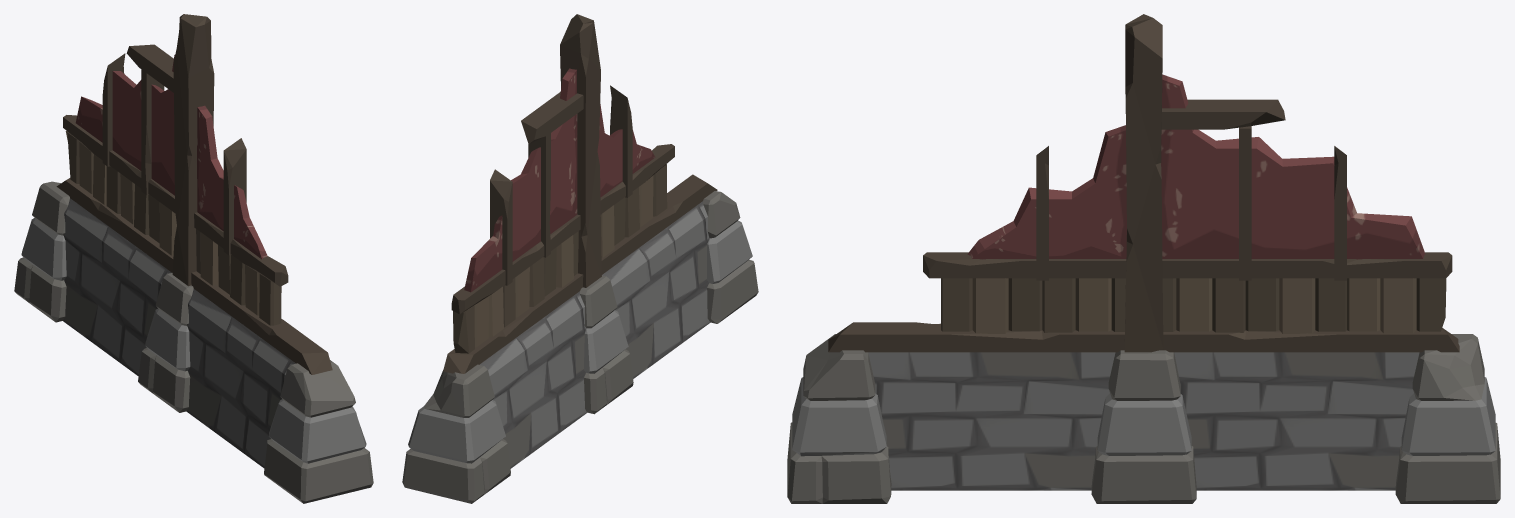
File: SM_Prop_Destroyed_House_Piece_06.fbx
3 renders of one model, left to right at view 1: azimuth 30°, elevation 25°; view 2: azimuth 150°, elevation 25°; view 3: azimuth 270°, elevation 25°, orthographic. The views are drawn at different scales.
Visible parts, largest first — view 1: SM_Prop_Destroyed_House_Piece_06; view 2: SM_Prop_Destroyed_House_Piece_06; view 3: SM_Prop_Destroyed_House_Piece_06.
Part boxes in pixels (box(x1,y1,x2,y2)): SM_Prop_Destroyed_House_Piece_06: box(14, 14, 373, 503); SM_Prop_Destroyed_House_Piece_06: box(402, 14, 758, 503); SM_Prop_Destroyed_House_Piece_06: box(787, 14, 1500, 503).
Bounding box in the file's own units: 85.25 × 420 × 586.
Materials: 1 (1 with a texture image).
